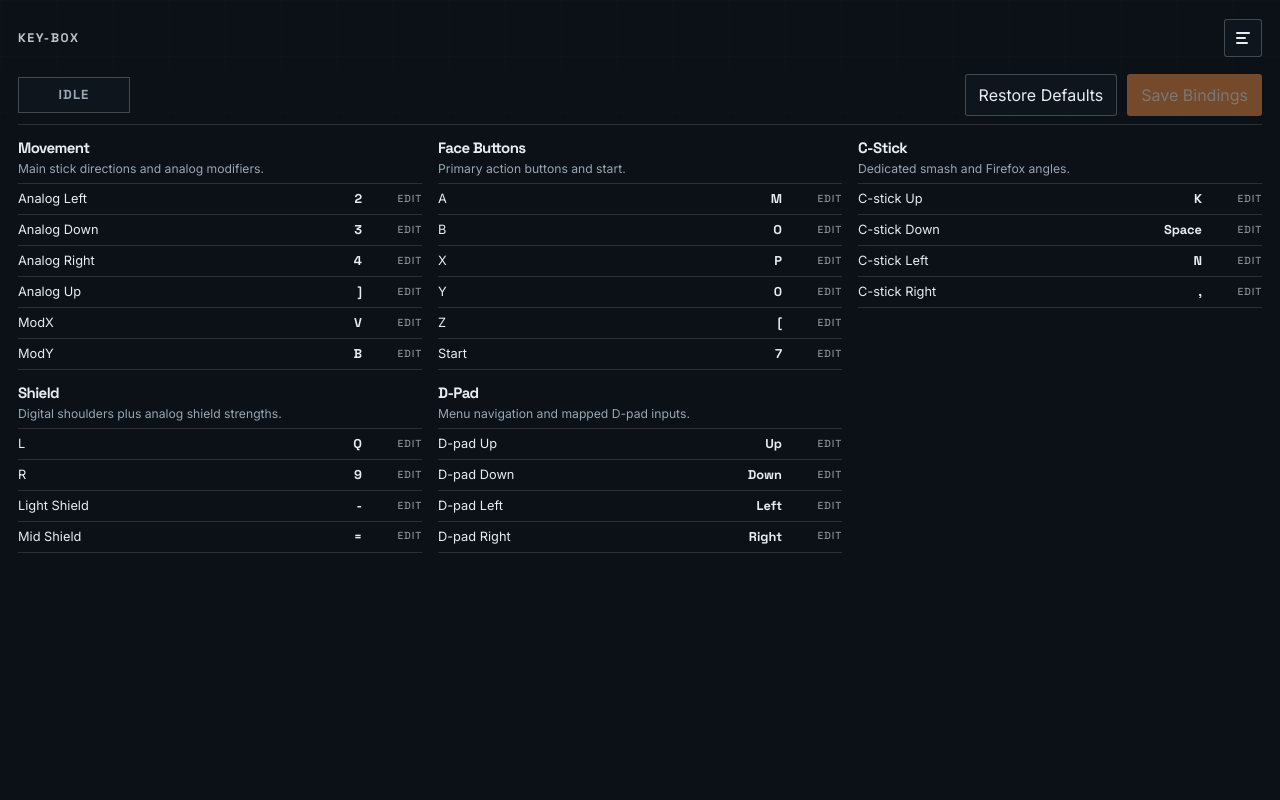
Test case: App › shows download progress in the settings updates section
Click the button named "Open settings".
click(1243, 38)  # box [1224,19,1262,57]
(page scrolled)
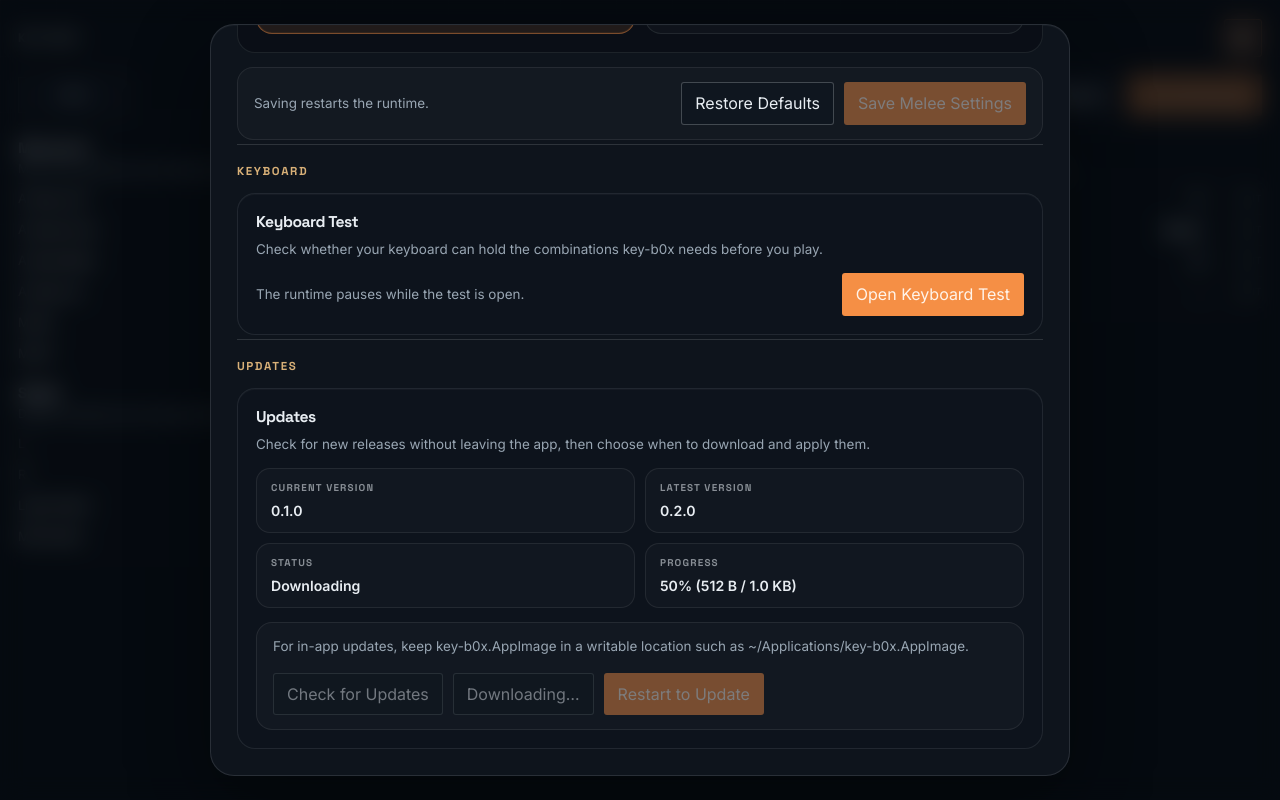
expect the text "Downloading" is shown: met, box [271,577,360,594]
expect the text "50% (512 B / 1.0 KB)" is shown: met, box [660,577,797,594]
